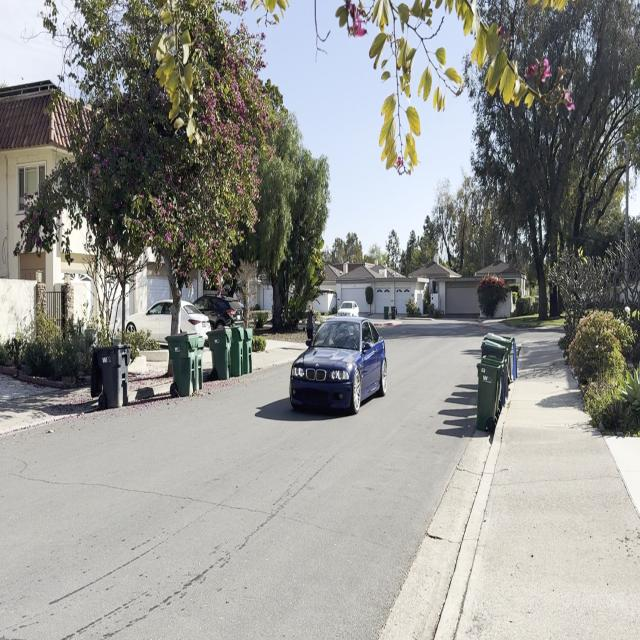Carbeetle: (287, 310, 395, 425)
